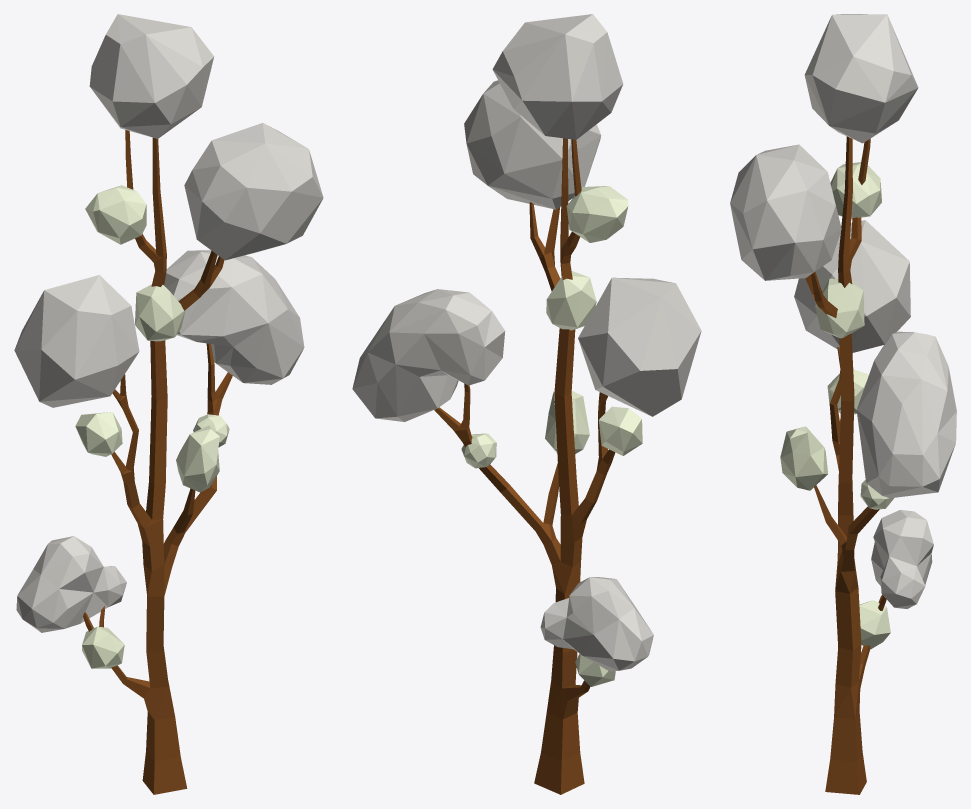
Rendered from Mistletoe_Tree_flat.glb.
3 views of the same model, side by side, from view 1: azimuth 30°, elevation 25°; view 2: azimuth 150°, elevation 25°; view 3: azimuth 270°, elevation 25° (orthographic).
Parts seen in each view (by area): view 1: Tree with mistletoe f; view 2: Tree with mistletoe f; view 3: Tree with mistletoe f.
Part boxes in pixels (bbox=[...]): Tree with mistletoe f: bbox=[14, 14, 323, 794]; Tree with mistletoe f: bbox=[352, 14, 701, 794]; Tree with mistletoe f: bbox=[730, 14, 956, 794].
Size of the model in its own units: 8.43 by 20.75 by 5.61.
